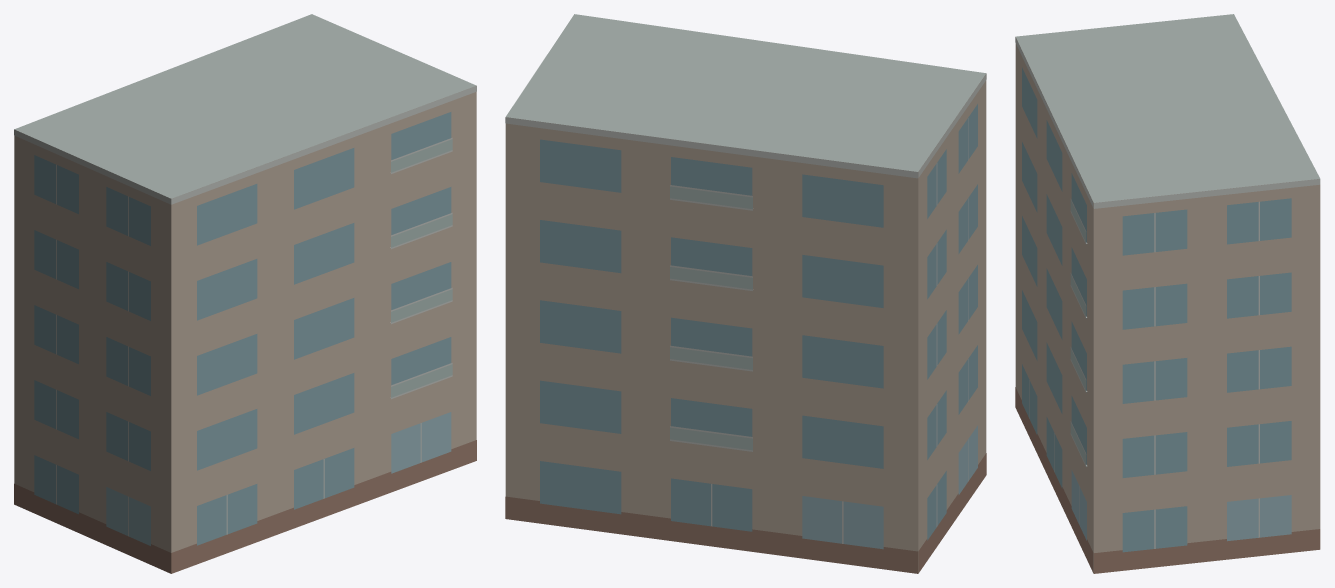
File: survey-upis-32922299.glb
3 views of the same model, side by side, from view 1: azimuth 30°, elevation 25°; view 2: azimuth 150°, elevation 25°; view 3: azimuth 270°, elevation 25° (orthographic). The views are drawn at different scales.
Parts seen in each view (by area): view 1: survey-upis-32922299.tmp; view 2: survey-upis-32922299.tmp; view 3: survey-upis-32922299.tmp.
Boxes of the visible parts, x1,y1,x2,y2 form: survey-upis-32922299.tmp: (14, 14, 476, 573); survey-upis-32922299.tmp: (505, 14, 986, 573); survey-upis-32922299.tmp: (1015, 14, 1320, 573).
Size of the model in its own units: 16.68 by 15.25 by 11.37.
